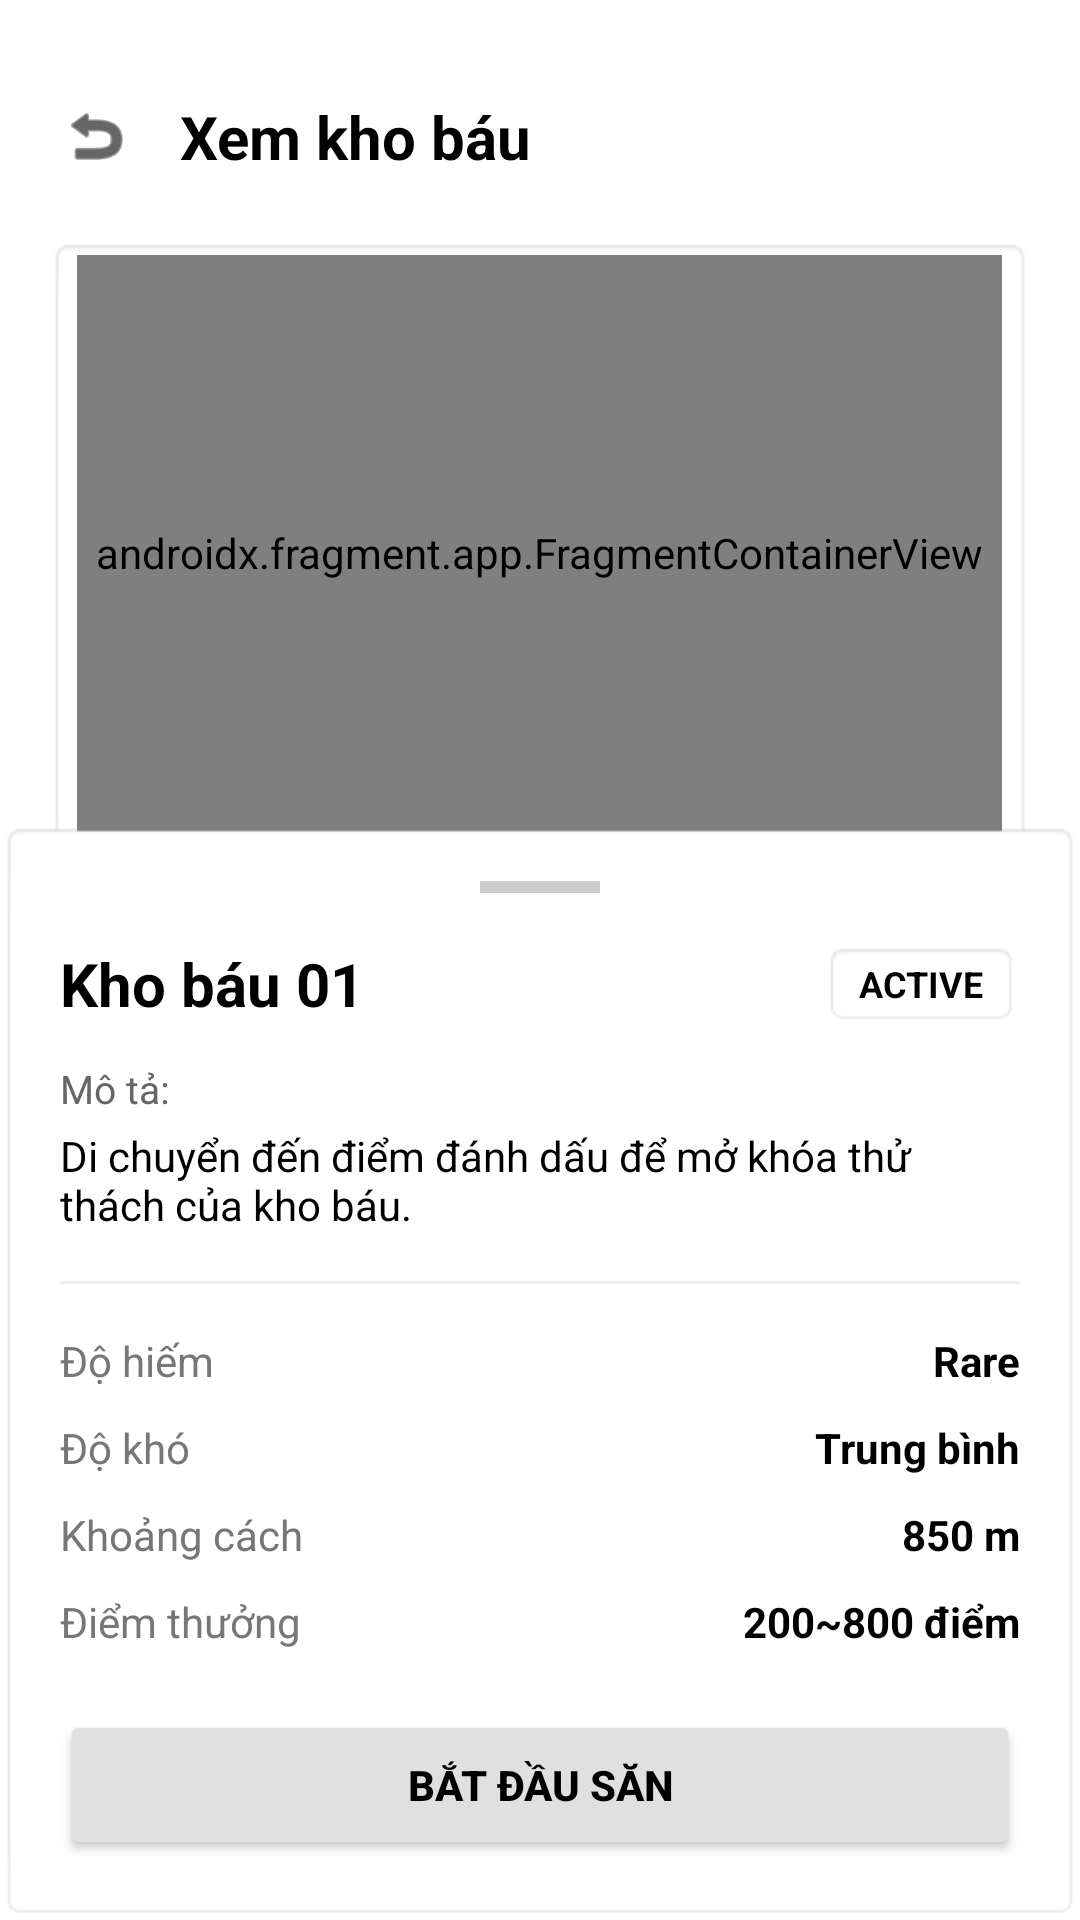

Point at icon controls on the screen. Image size 1080 x 1920, points as (x,y).
Quay lại: (97,136)
